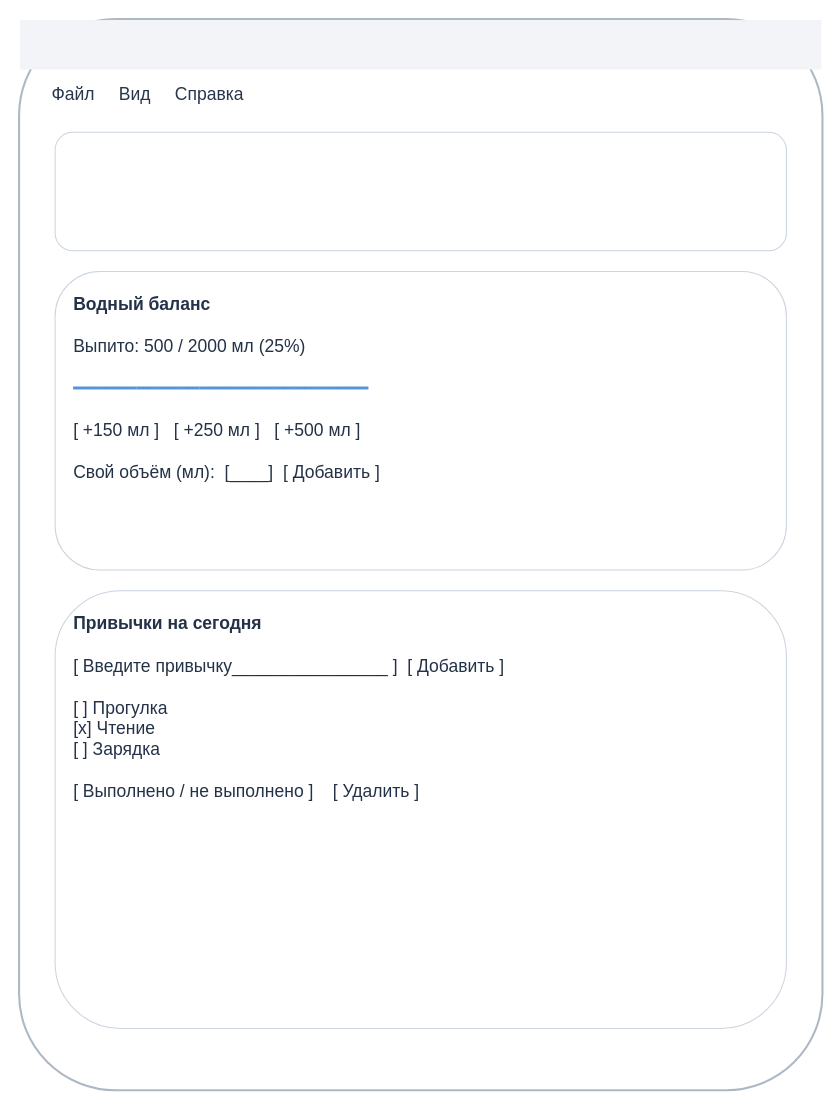
The diagram is 840 pixels wide and 1108 high, and some of its shapes have lost their labels. Each missing label, with the box of its shape:
Дневная цель Цель (мл): [ 2000 ] [ Задать цель ]: (54, 131, 786, 251)
Трекер привычек и водного баланса: (20, 20, 821, 69)
